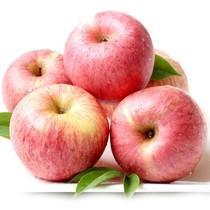apple: (10, 85, 110, 181), (110, 86, 207, 184), (63, 10, 154, 103), (1, 48, 74, 111)
